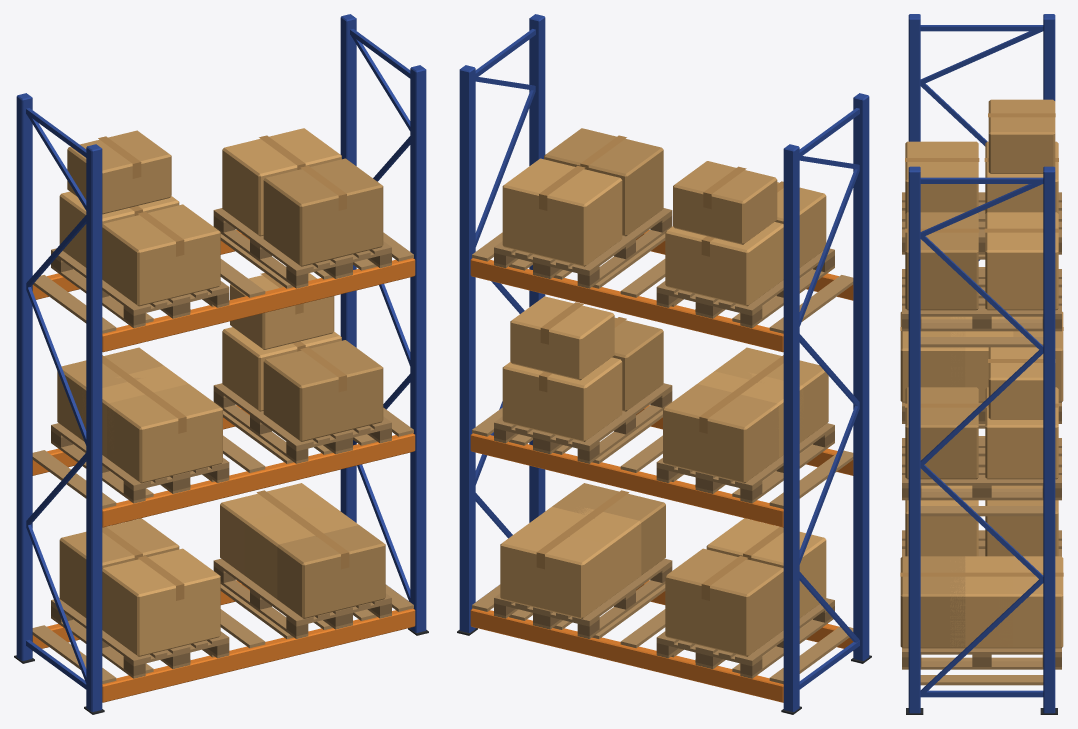
File: rack_bay_loaded.glb
The picture shows the model from 3 angles, left to right: view 1: azimuth 30°, elevation 25°; view 2: azimuth 150°, elevation 25°; view 3: azimuth 270°, elevation 25°; orthographic projection. The views are drawn at different scales.
Parts seen in each view (by area): view 1: RackLoaded; view 2: RackLoaded; view 3: RackLoaded.
Boxes of the visible parts, x1,y1,x2,y2 form: RackLoaded: (14,14,428,714); RackLoaded: (457,14,871,714); RackLoaded: (900,14,1063,714).
Size of what is drawn, in the model's own units: 2.81 by 4.5 by 1.23.
